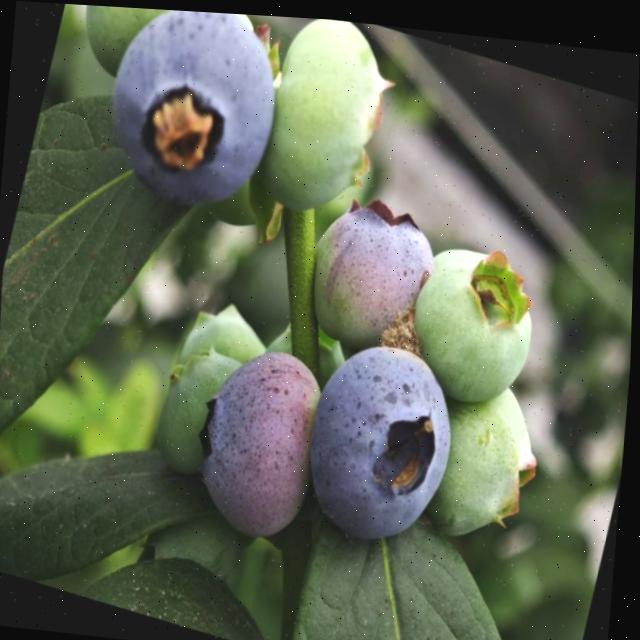RipeBlueBerry: (81, 4, 299, 231), (288, 318, 478, 558)
Semi-RipeBlueBerry: (176, 325, 342, 553), (294, 180, 449, 362)
UnripeBlueBerry: (247, 12, 406, 228), (394, 219, 558, 414), (420, 364, 560, 558), (61, 3, 227, 95)
